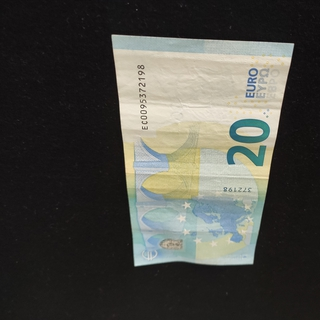20EUROBack: (111, 34, 294, 267)
